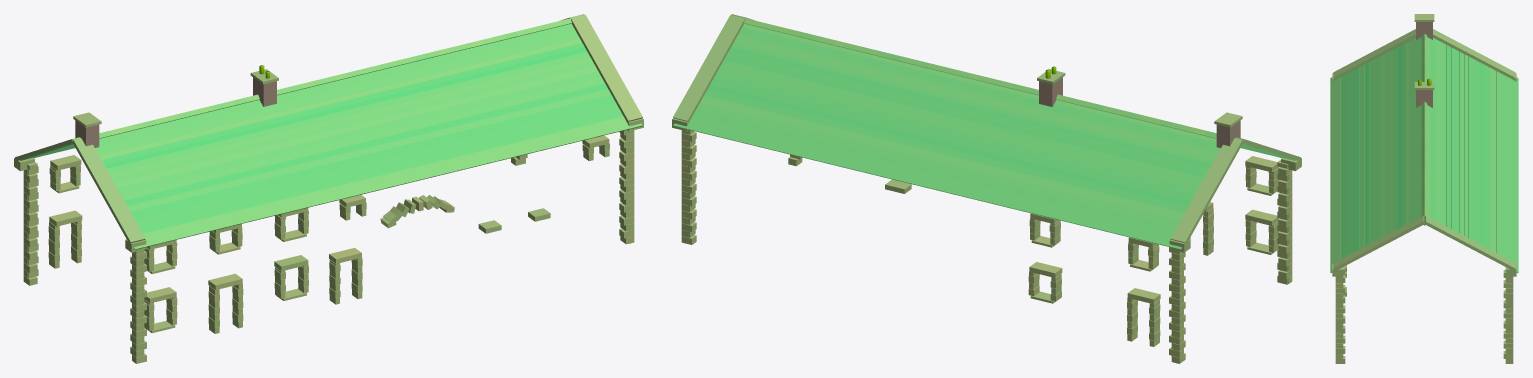
The model's file is SM_Bld_170_Stone.glb.
3 views of the same model, side by side, from view 1: azimuth 30°, elevation 25°; view 2: azimuth 150°, elevation 25°; view 3: azimuth 270°, elevation 25° (orthographic). The views are drawn at different scales.
Visible parts, largest first — view 1: SM_Bld_170_Stone; view 2: SM_Bld_170_Stone; view 3: SM_Bld_170_Stone.
Part boxes in pixels (left/top/right/bottom): SM_Bld_170_Stone: left=14, top=14, right=643, bottom=363; SM_Bld_170_Stone: left=672, top=14, right=1301, bottom=363; SM_Bld_170_Stone: left=1330, top=14, right=1518, bottom=363.
Bounding box in the file's own units: 24.97 × 9.74 × 10.11.
